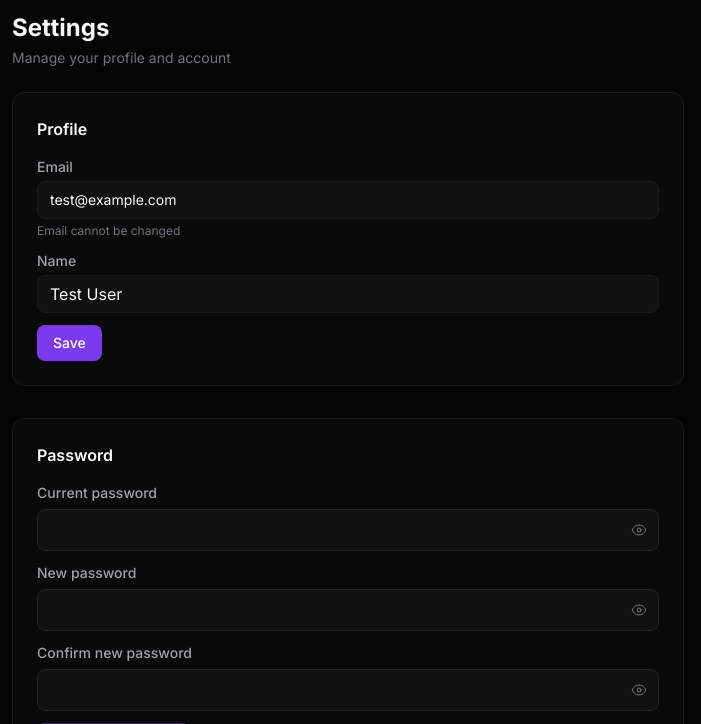
it: SettingsPage › shows error when passwords do not match
In the password field below "Current password": (348, 530) x1=37 y1=509 x2=659 y2=551, type "oldPass123"
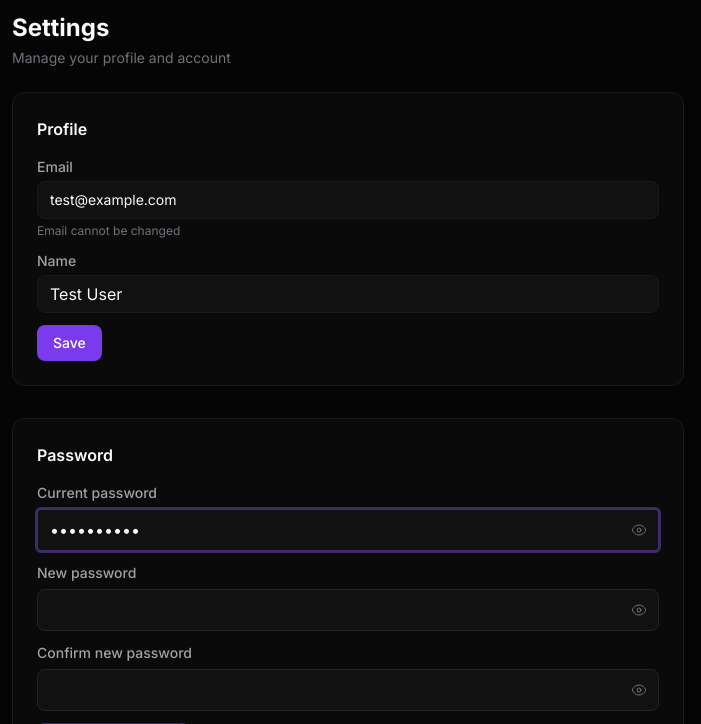
In the 2nd password field: (348, 610) x1=37 y1=589 x2=659 y2=631, type "newPass123"
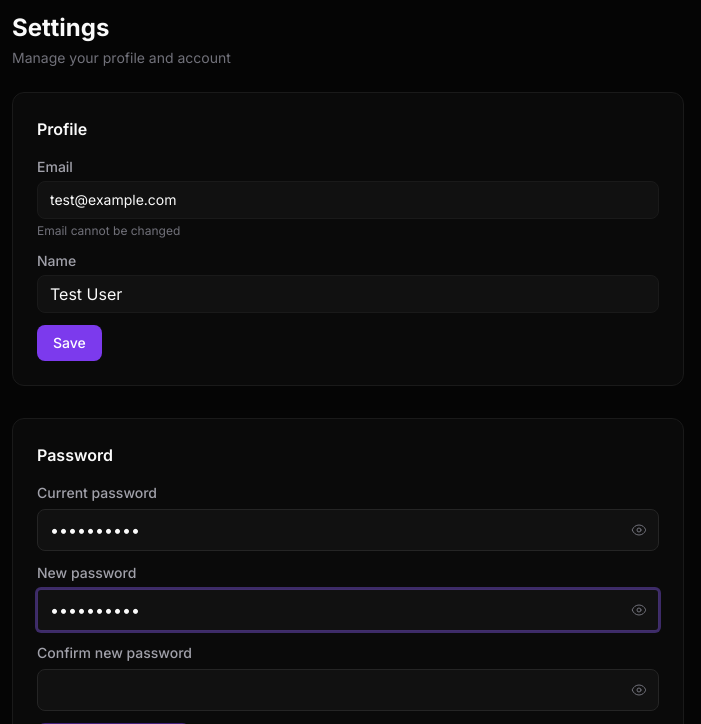
In the password field below "Confirm new password": (348, 690) x1=37 y1=669 x2=659 y2=711, type "differentPass"
(page scrolled)
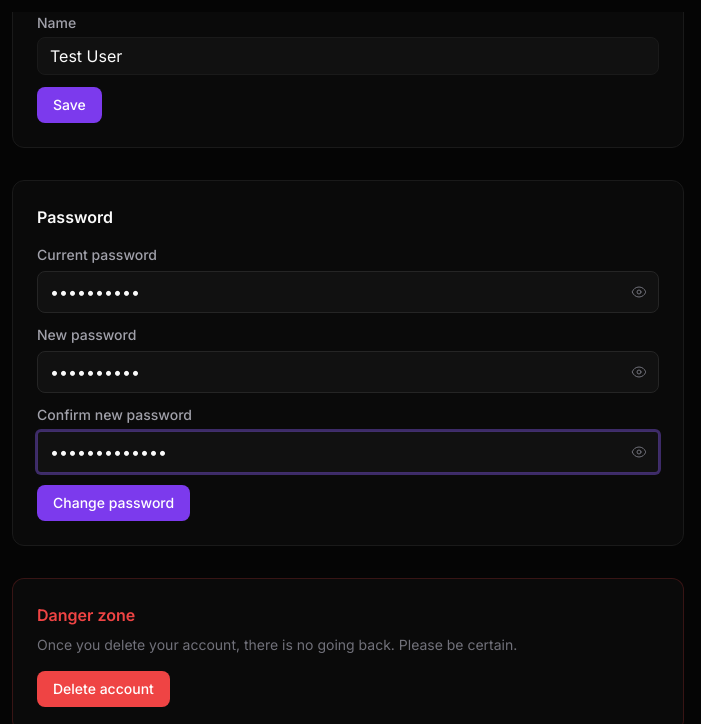
Click the button "Change password": (114, 503) x1=37 y1=485 x2=190 y2=521
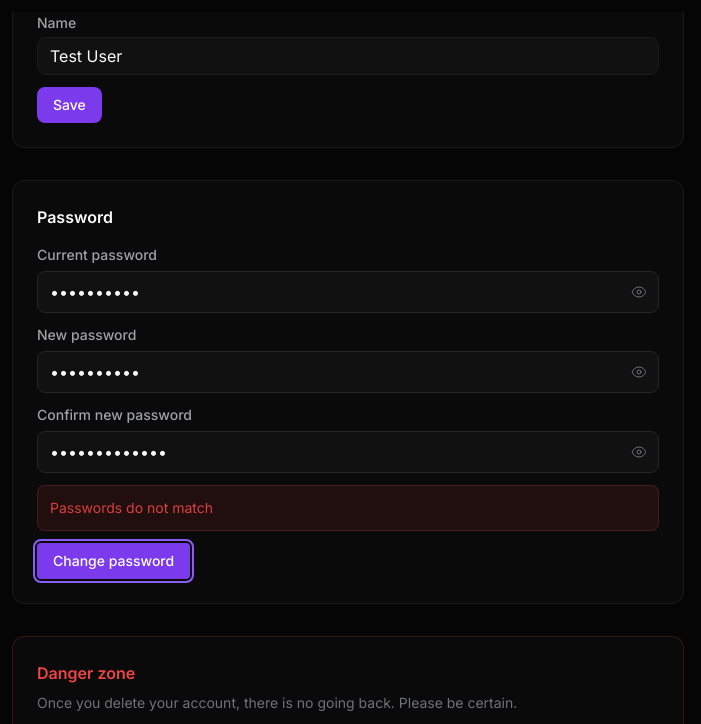
Now the text "Passwords do not match" is shown, box x1=37 y1=485 x2=659 y2=531
